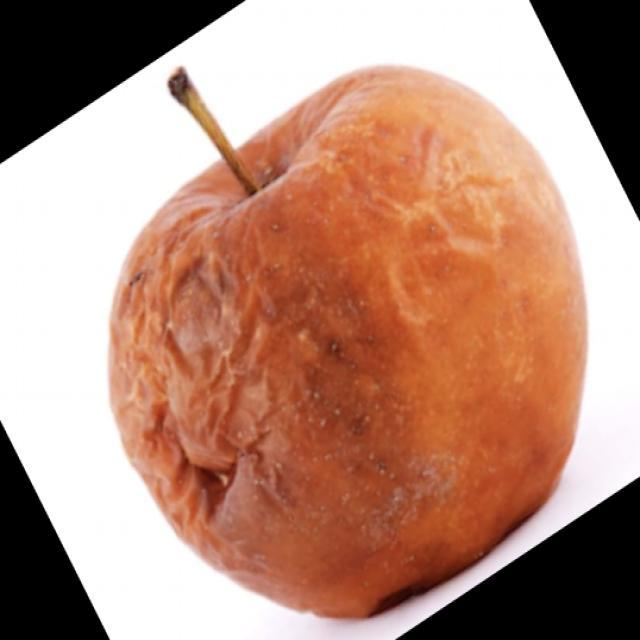Rotten: (147, 74, 555, 604)
